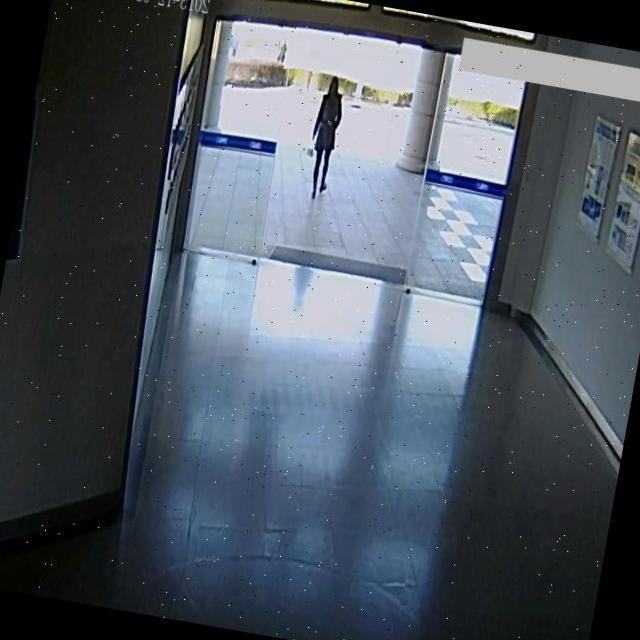person: (294, 64, 355, 204)
